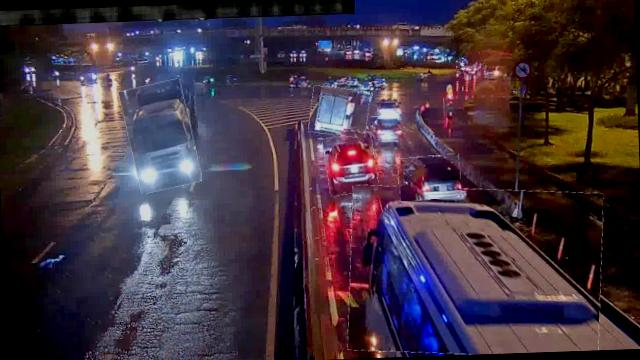Bike: (444, 98, 456, 119)
Bus: (344, 180, 606, 358)
Car: (324, 134, 378, 196), (398, 155, 460, 201), (368, 115, 404, 144), (375, 98, 402, 120)
Truck: (123, 80, 198, 192), (308, 86, 371, 138)
